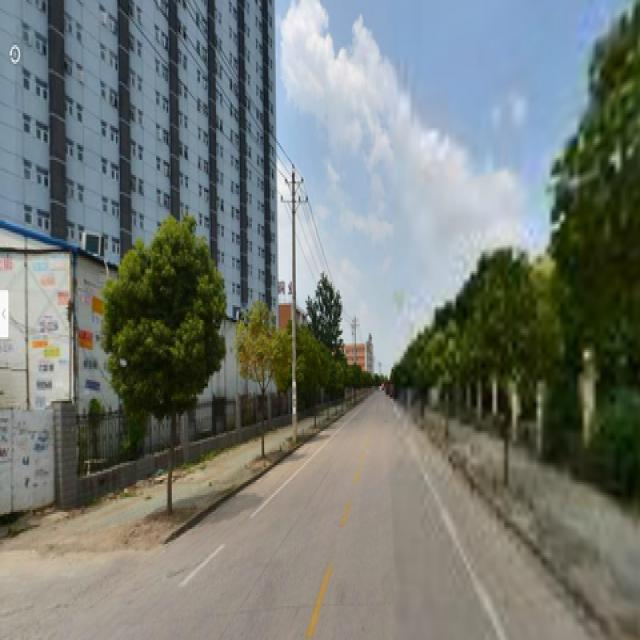cinn: (129, 239, 191, 493)
